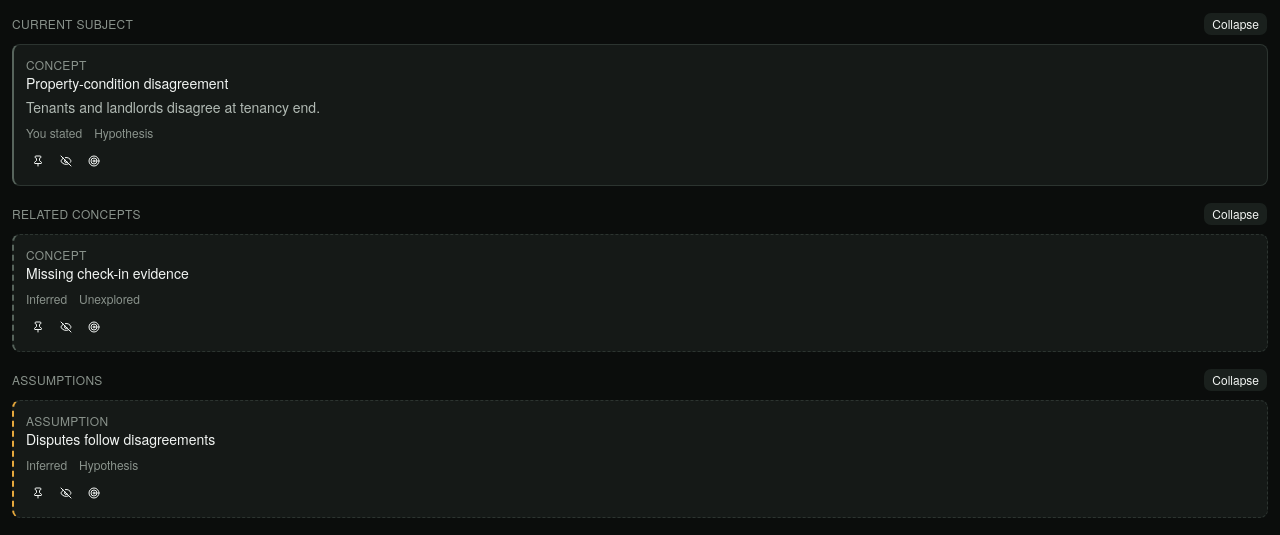
Scenario: StructuredInspector view operations › hides an object and reports the count instead of dropping it
What coordinates should you click on to do the following:
click the button named "Hide Missing check-in evidence"
I would click on:
 (66, 327)
Its box is 54,315 -> 78,339.
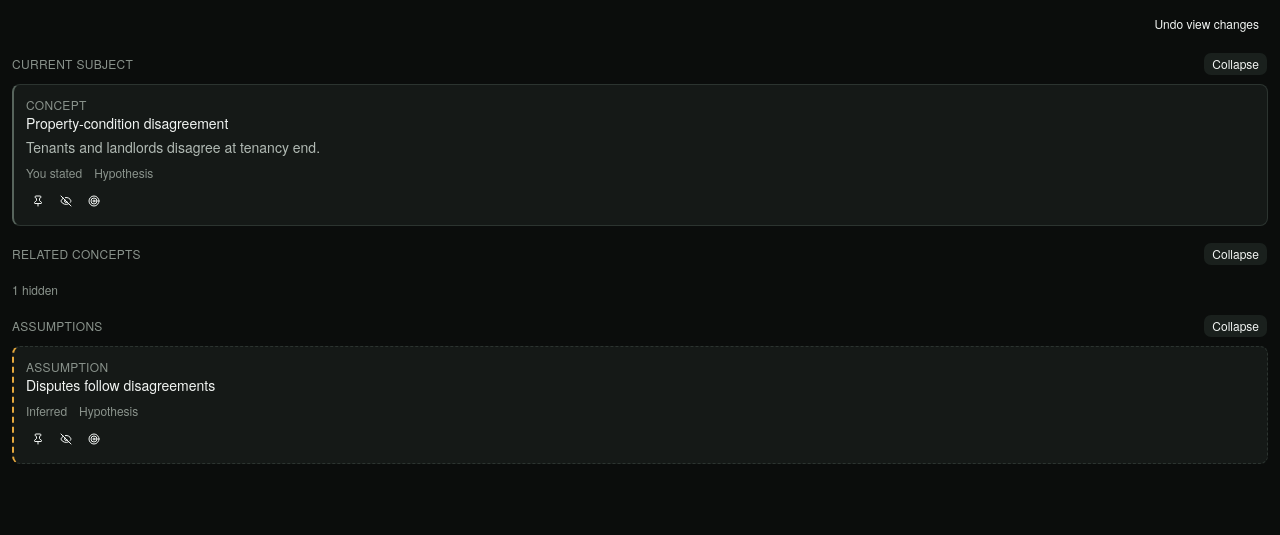
Now the heading "Missing check-in evidence" is gone
Now the text "1 hidden" is shown, box 12,281 -> 58,298
